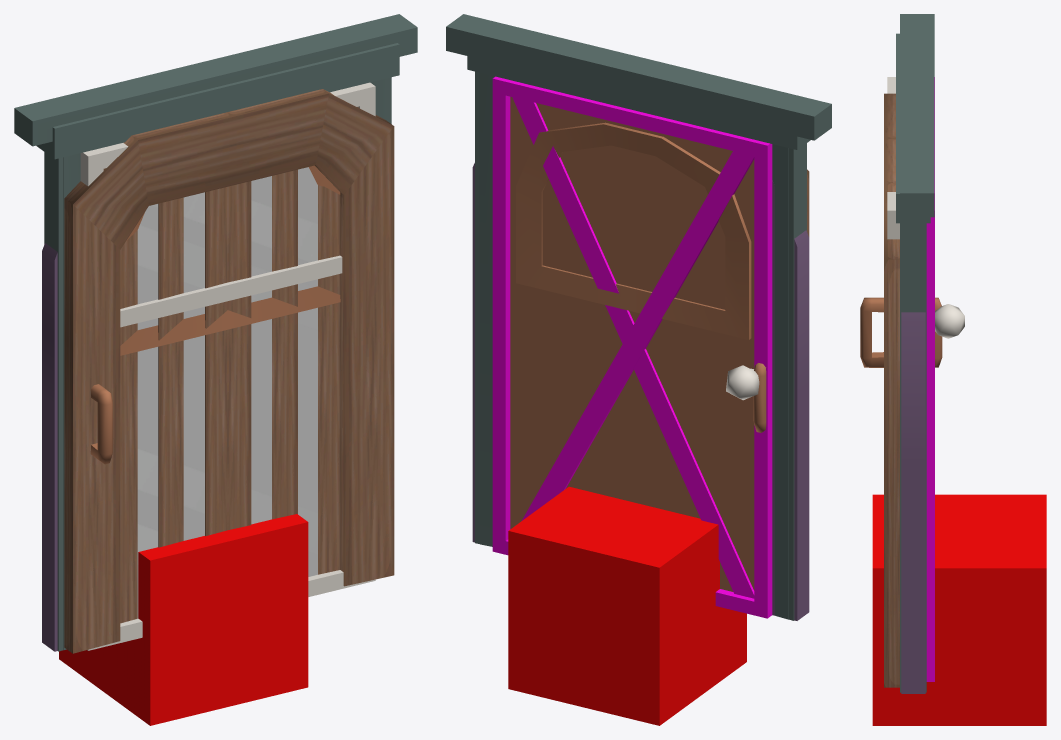
The model's file is Door_Prefab.fbx.
3 renders of one model, left to right at view 1: azimuth 30°, elevation 25°; view 2: azimuth 150°, elevation 25°; view 3: azimuth 270°, elevation 25°, orthographic. The views are drawn at different scales.
Visible parts, largest first — view 1: Door, GlassDoor, Entry_Exit_Zone, Door_Frame, BarnDoorFrame, ArchDoorFrame, ArchDoor; view 2: BarnDoor, Entry_Exit_Zone, BarnDoorFrame, ArchDoor, Door_Frame, ArchDoorFrame, GlassDoor; view 3: Entry_Exit_Zone, ArchDoorFrame, Door, BarnDoorFrame, Door_Frame, BarnDoor, GlassDoor, ArchDoor.
Part boxes in pixels (<box>): Door: <box>64,89,394,653</box>; GlassDoor: <box>80,82,375,650</box>; Entry_Exit_Zone: <box>59,514,308,725</box>; Door_Frame: <box>36,43,399,651</box>; BarnDoorFrame: <box>14,14,417,650</box>; ArchDoorFrame: <box>42,243,57,651</box>; ArchDoor: <box>120,165,340,355</box>; BarnDoor: <box>492,76,772,618</box>; Entry_Exit_Zone: <box>508,486,746,725</box>; BarnDoorFrame: <box>446,14,831,619</box>; ArchDoor: <box>516,122,759,400</box>; Door_Frame: <box>467,56,810,620</box>; ArchDoorFrame: <box>472,163,809,620</box>; GlassDoor: <box>753,363,766,432</box>; Entry_Exit_Zone: <box>872,494,1046,725</box>; ArchDoorFrame: <box>901,312,925,693</box>; Door: <box>884,93,899,687</box>; BarnDoorFrame: <box>900,14,934,217</box>; Door_Frame: <box>896,33,930,692</box>; BarnDoor: <box>926,77,934,681</box>; GlassDoor: <box>860,77,942,367</box>; ArchDoor: <box>935,304,964,338</box>.
Bounding box in the file's own units: 2.44 × 3.74 × 1.07.
